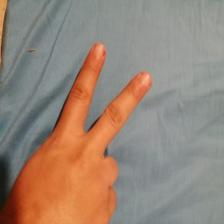two: (17, 31, 156, 220)
